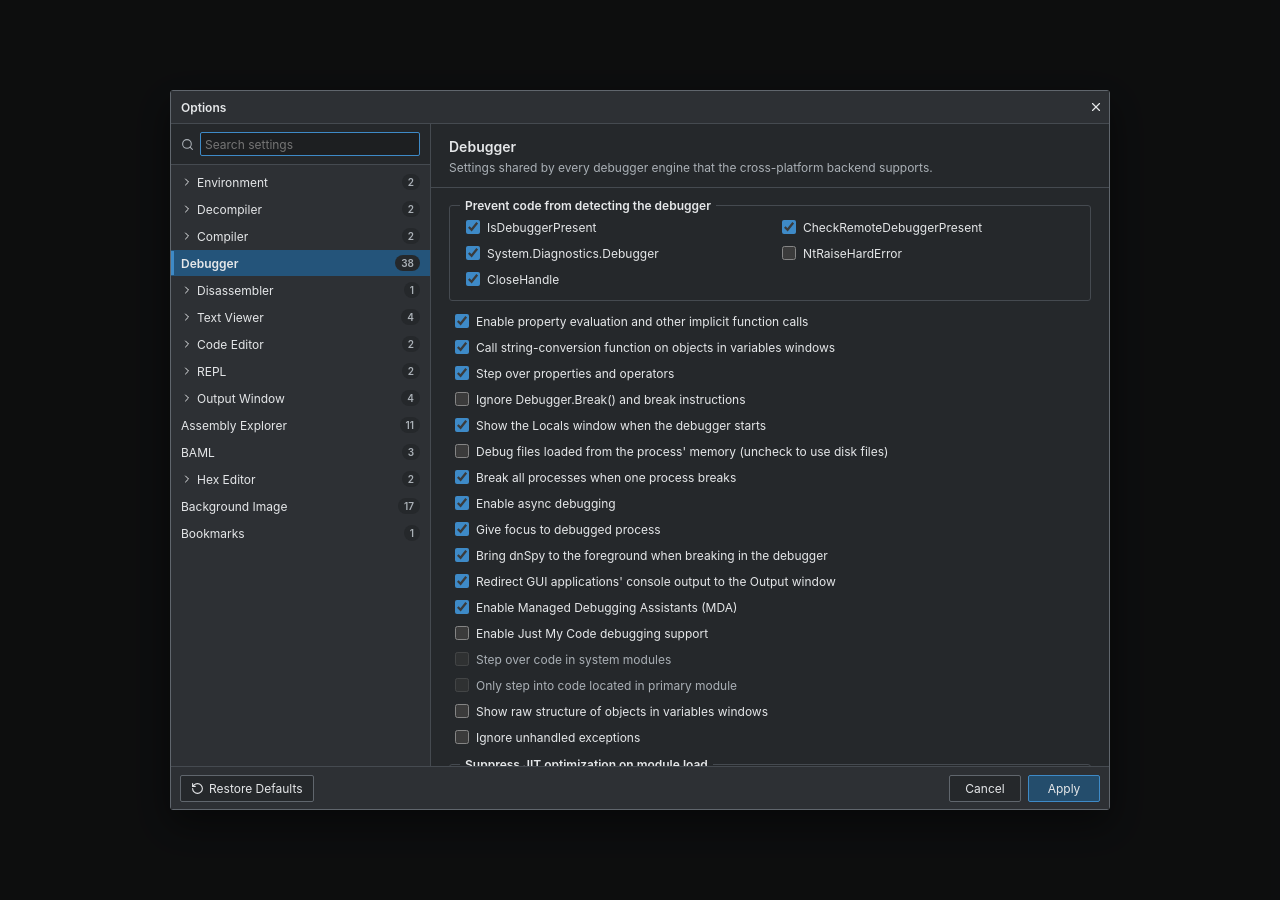
OptionsDialog › disables dependent debugger options until their prerequisite is enabled
This screenshot has width=1280, height=900.
Expected: the checkbox labelled "Call string-conversion function on objects in variables windows" is enabled, [455, 340, 469, 354]
Expected: the checkbox labelled "Step over code in system modules" is disabled, [455, 652, 469, 666]
Click the checkbox labelled "Enable property evaluation and other implicit function calls": (462, 321) [455, 314, 469, 328]
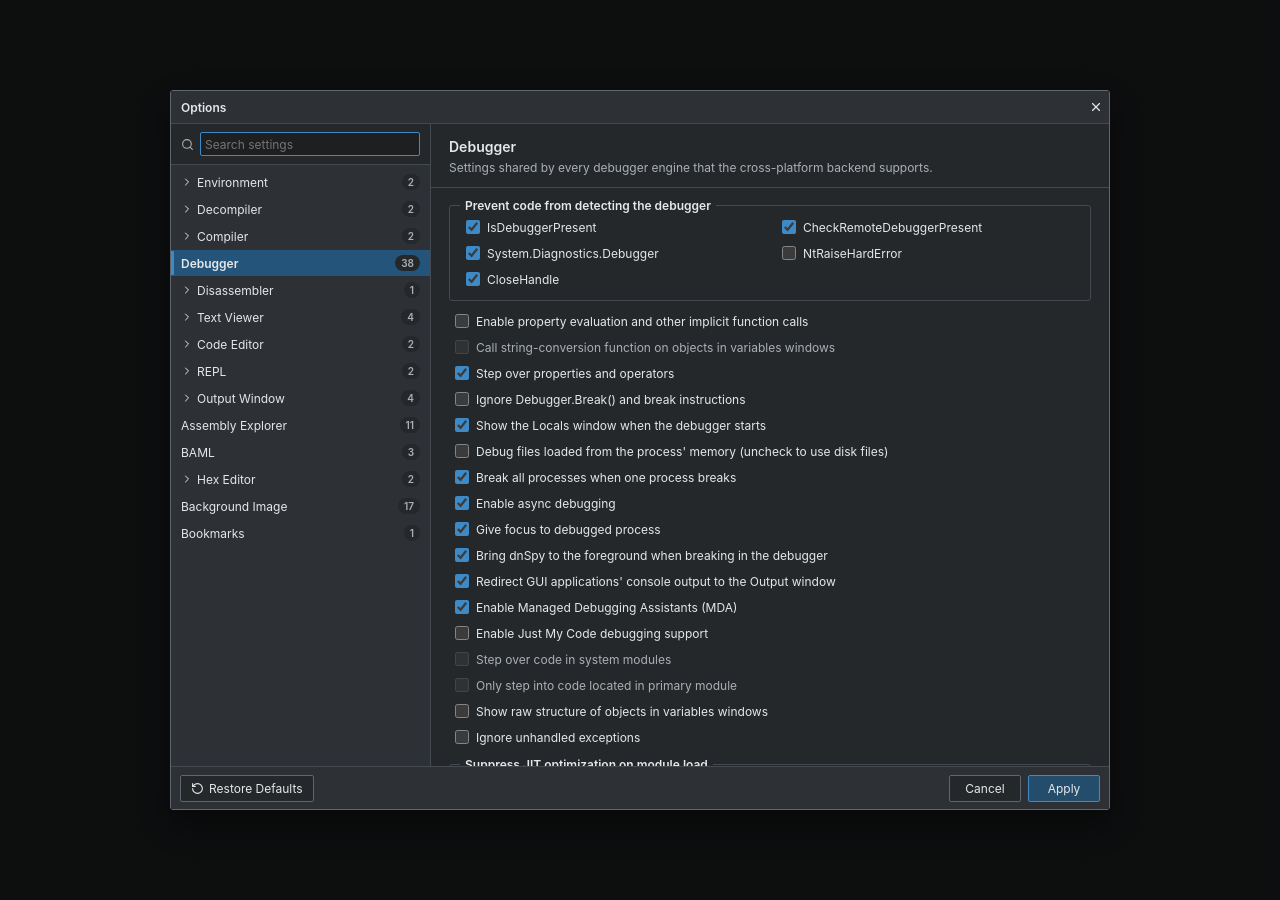
Expected: the checkbox labelled "Call string-conversion function on objects in variables windows" is disabled, [455, 340, 469, 354]
Expected: the checkbox labelled "Call string-conversion function on objects in variables windows" is not checked, [455, 340, 469, 354]
Click the checkbox labelled "Enable Just My Code debugging support": (462, 633) [455, 626, 469, 640]
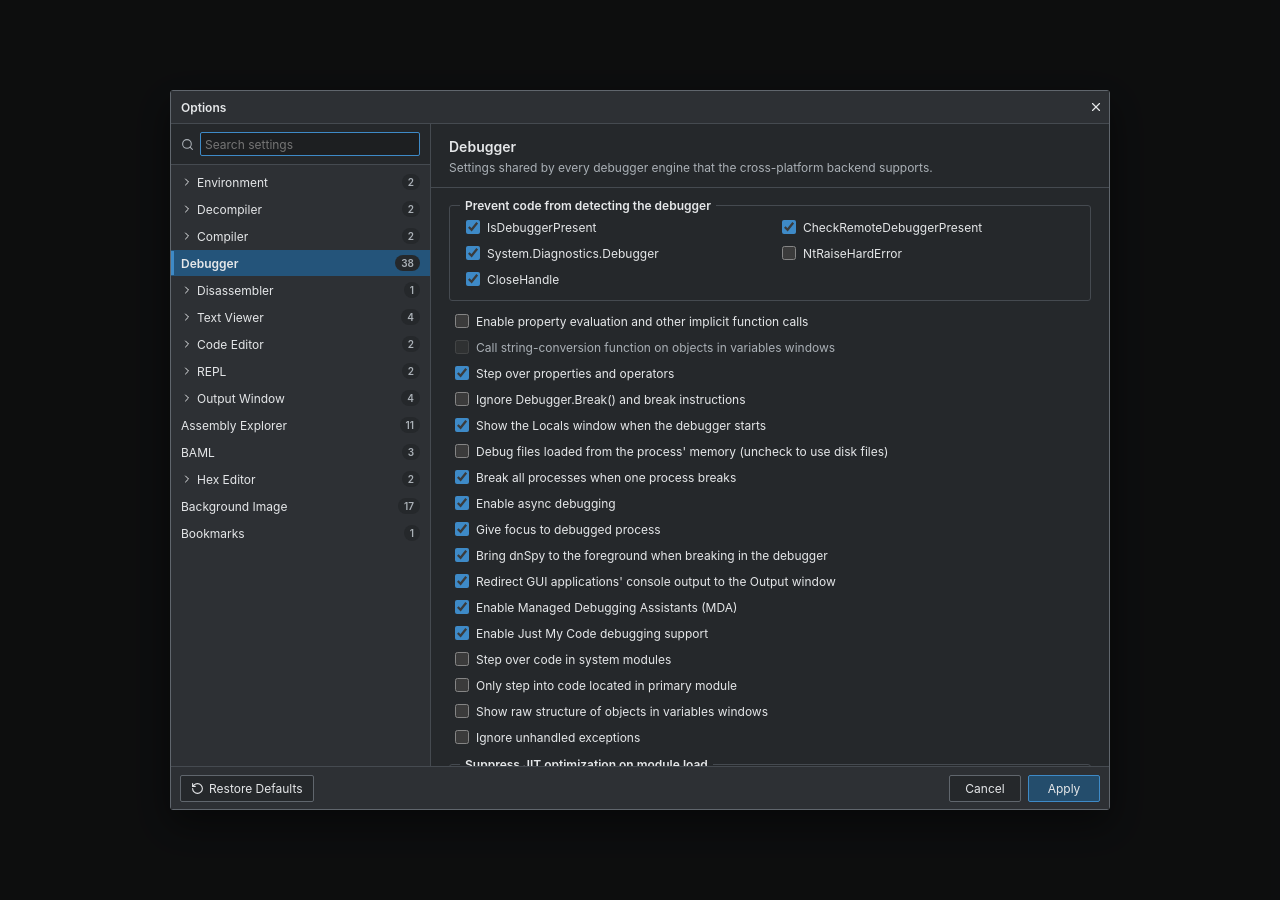
Expected: the checkbox labelled "Step over code in system modules" is enabled, [455, 652, 469, 666]
